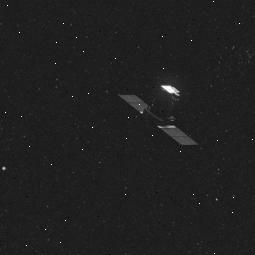soho: (125, 83, 197, 146)
